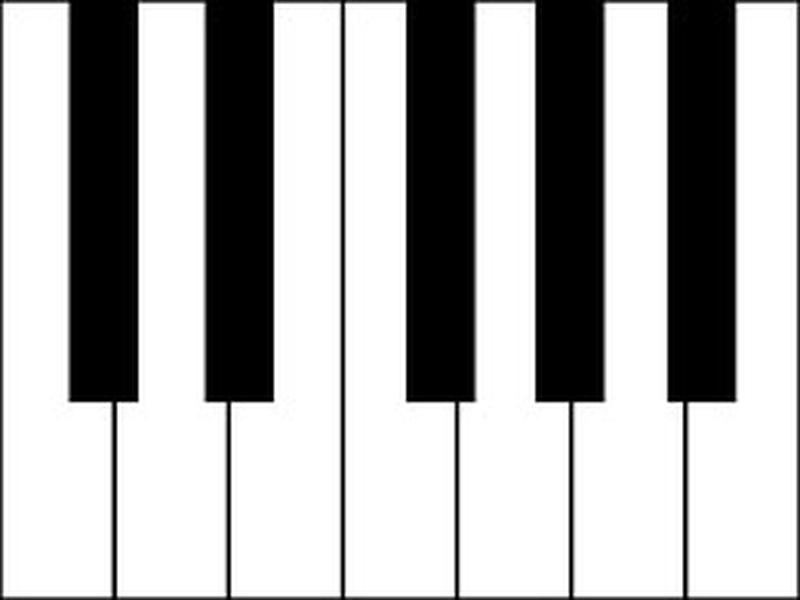piano: (1, 1, 800, 594)
